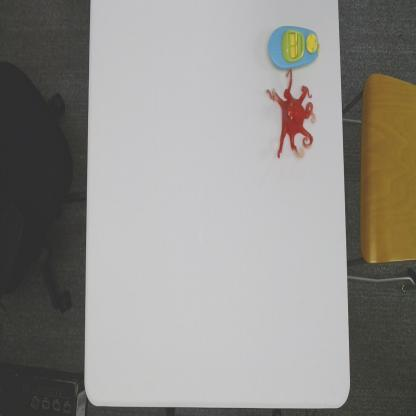Boat: (267, 23, 322, 71)
Octopus: (265, 69, 317, 160)
